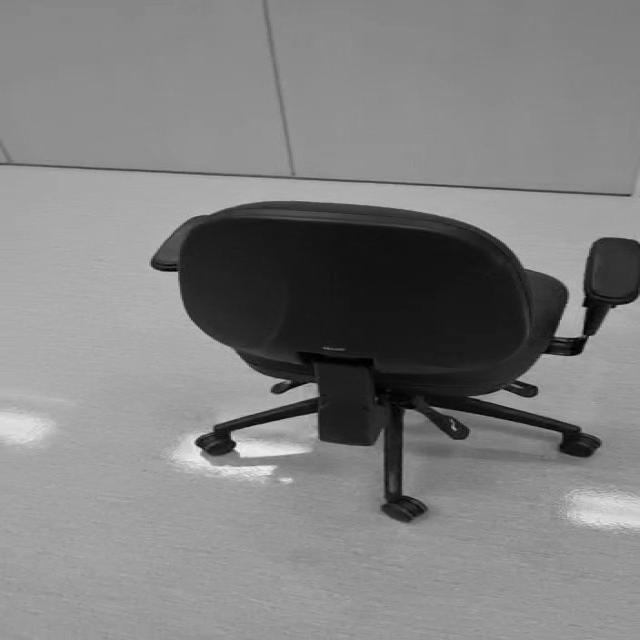cadeira-azul: (150, 201, 640, 522)
